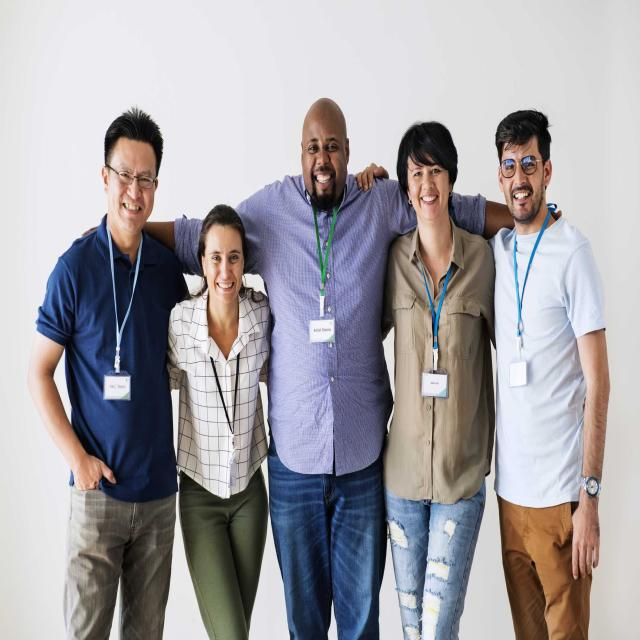sem_oculos: (93, 155, 168, 205), (299, 134, 352, 166), (200, 245, 246, 276), (402, 162, 453, 188), (497, 158, 555, 176)
